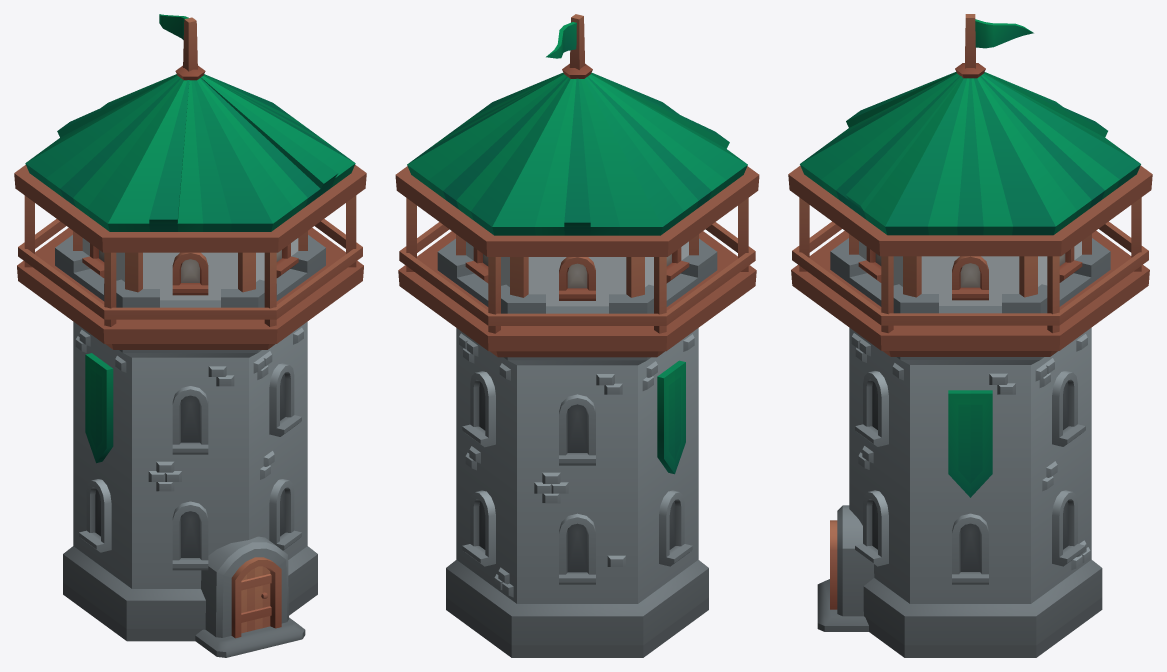
Rendered from building_tower_B_green.glb.
The picture shows the model from 3 angles, left to right: view 1: azimuth 30°, elevation 25°; view 2: azimuth 150°, elevation 25°; view 3: azimuth 270°, elevation 25°; orthographic projection. The views are drawn at different scales.
Parts seen in each view (by area): view 1: building_tower_B_green, building_tower_B_top_green; view 2: building_tower_B_green, building_tower_B_top_green; view 3: building_tower_B_green, building_tower_B_top_green.
Part boxes in pixels (box(x1,y1,x2,y2)): building_tower_B_green: box(55, 235, 325, 657); building_tower_B_top_green: box(14, 14, 366, 349); building_tower_B_green: box(437, 238, 717, 657); building_tower_B_top_green: box(395, 14, 759, 357); building_tower_B_green: box(817, 238, 1110, 657); building_tower_B_top_green: box(788, 14, 1152, 356).
Bounding box in the file's own units: 1.2 × 2.49 × 1.38.
1 material, 1 textured.
